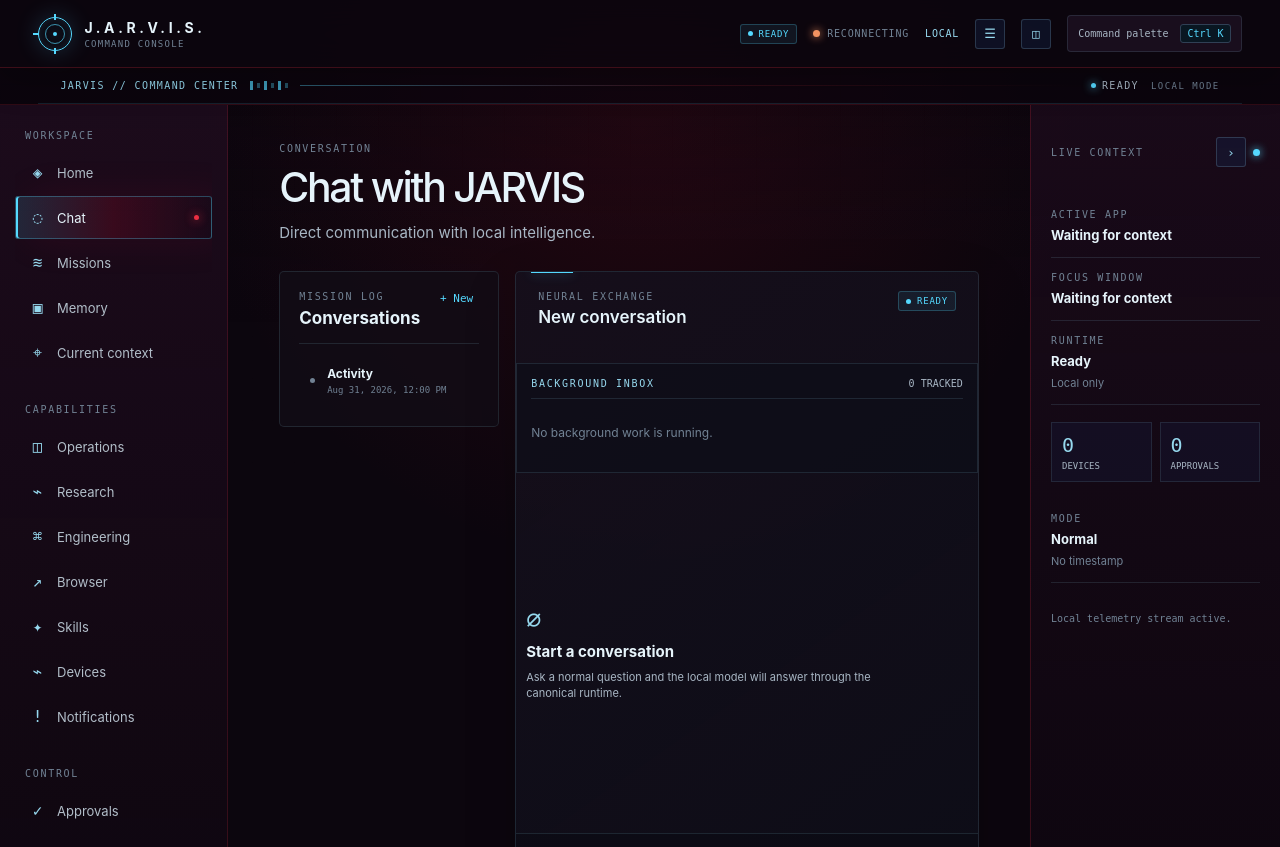
Test case: Phase 14 final closure screens › renders activity from the run-scoped activity endpoint
Step 1. Click the button "Activity Aug 31, 2026, 12:00 PM" → (389, 380), box x1=299 y1=354 x2=479 y2=407
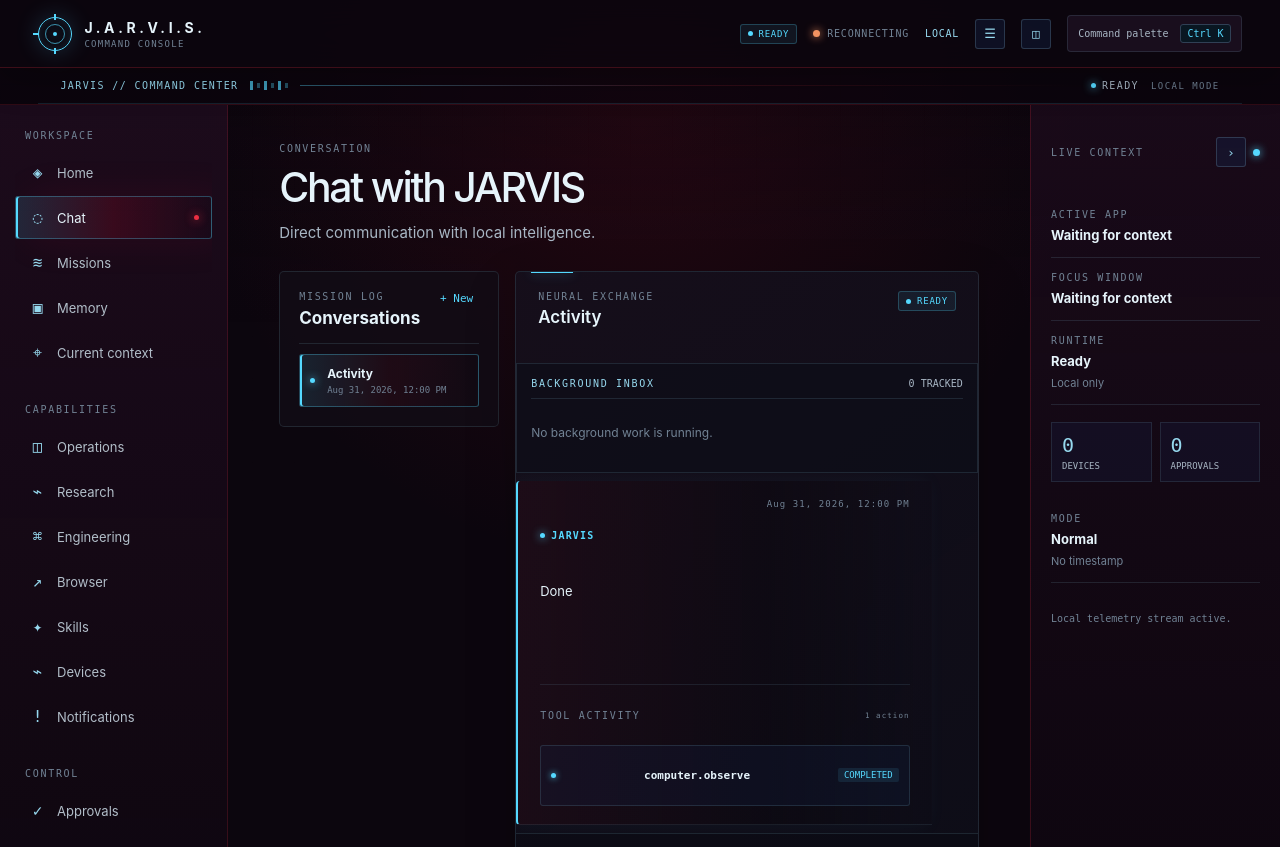
Now the text "computer.observe" is shown, box x1=644 y1=769 x2=750 y2=782
